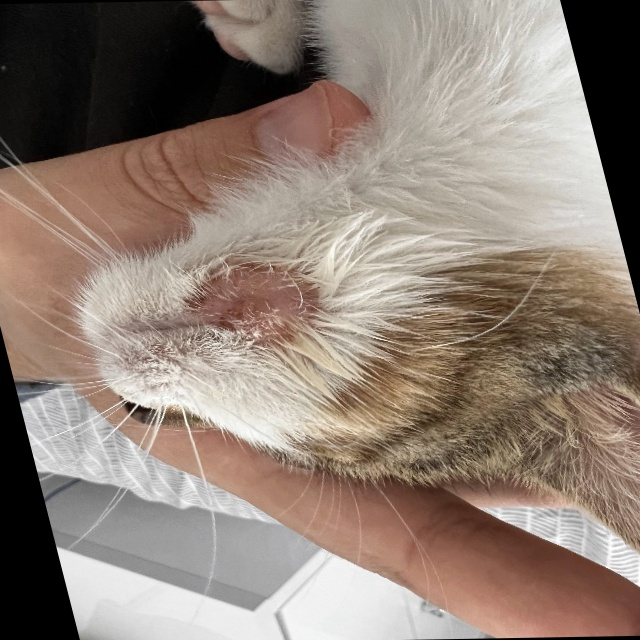ringworm: (194, 258, 342, 344)
